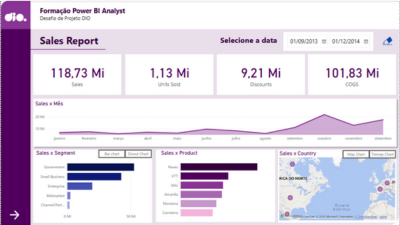

What the dashboard file says about the page in this screenshot:
{"tool":"powerbi","page":{"name":"Sales","canvas":[1280,720],"ordinal":0},"visuals":[{"type":"shape","box":[0,0,1280,720],"z":0},{"type":"image","title":"Clean","box":[1215.6,108.8,53.3,40],"z":0,"group":"g1"},{"type":"card","fields":{"Values":["Sum(financials. Sales)"]},"box":[104.3,171,282.6,130.4],"z":0,"group":"g4"},{"type":"donutChart","title":"Sales x Segment ","fields":{"Y":["Sum(financials. Sales)"],"Category":["financials.Segment"]},"box":[109.3,476.8,376.7,230.2],"z":0,"group":"g3"},{"type":"map","title":"Sales x Country","fields":{"Category":["financials.Country"],"Size":["Sum(financials. Sales)"]},"box":[889.6,477.6,380.6,231.3],"z":0,"group":"g2"},{"type":"shape","box":[0,0,96,720],"z":1000},{"type":"textbox","box":[700.1,104.4,207.7,49.2],"z":1000,"group":"g1"},{"type":"card","fields":{"Values":["Sum(financials.Units Sold)"]},"box":[400,171,282.6,130.4],"z":1000,"group":"g4"},{"type":"treemap","title":"Sales x Country ","fields":{"Group":["financials.Country"],"Values":["Sum(financials. Sales)"]},"box":[890.7,476.7,379.1,230.2],"z":1000,"group":"g2"},{"type":"shape","box":[0,0,95.7,91.3],"z":2000},{"type":"actionButton","box":[1216.3,109.3,62.8,39.5],"z":2000,"group":"g1"},{"type":"card","fields":{"Values":["Sum(financials.Discounts)"]},"box":[694.2,171,282.6,130.4],"z":2000,"group":"g4"},{"type":"actionButton","title":"Donut Chart","box":[398.3,476.7,86.7,26.7],"z":2000,"group":"g3"},{"type":"actionButton","title":"Maps","box":[1096.7,478.3,86.7,26.7],"z":2000,"group":"g2"},{"type":"image","box":[8,12,80,80],"z":3000},{"type":"card","fields":{"Values":["Sum(financials.COGS)"]},"box":[986.9,171,282.6,130.4],"z":3000,"group":"g4"},{"type":"actionButton","title":"Bar Chart","box":[313.3,476.7,86.7,26.7],"z":3000,"group":"g3"},{"type":"actionButton","title":"Tremap","box":[1181.7,478.3,86.7,26.7],"z":3000,"group":"g2"},{"type":"shape","box":[95.7,0,1184.1,91.3],"z":4000},{"type":"textbox","box":[120,11.7,341,65.9],"z":5000},{"type":"shape","box":[94.4,138.9,240.7,33.3],"z":6000,"group":"g5"},{"type":"shape","box":[95.8,304.2,1184.7,172.2],"z":6000},{"type":"textbox","box":[119.4,100,280.6,55.6],"z":7000,"group":"g5"},{"type":"shape","box":[104.1,477.6,381.6,234.7],"z":7000},{"type":"shape","box":[498,477.6,381.6,232.7],"z":8000},{"type":"shape","box":[889.4,476.6,380.9,234],"z":9000},{"type":"areaChart","title":"Sales x Mês","fields":{"Category":["financials.Date.Variation.Hierarquia de datas.Mês"],"Y":["Sum(financials. Sales)"]},"box":[104.7,318.6,1165.1,139.5],"z":10000},{"type":"clusteredBarChart","title":"Sales x Product","fields":{"Y":["Sum(financials. Sales)"],"Category":["financials.Product"]},"box":[509,477.6,371.6,231.3],"z":11000},{"type":"slicer","fields":{"Values":["financials.Date"]},"box":[907.4,100,289.3,61.5],"z":12000},{"type":"group","id":"g1","title":"Filtro por Data","box":[700.1,104.4,579,49.2],"z":13000},{"type":"group","id":"g2","title":"Sales x Country","box":[889.6,476.7,380.6,232.2],"z":14000},{"type":"group","id":"g3","title":"Sales x Segment","box":[108.8,476.7,377.2,232.2],"z":15000},{"type":"actionButton","box":[23.5,666.7,64.7,39.2],"z":16000},{"type":"group","id":"g4","title":"Cartões","box":[104.3,171,1165.2,130.4],"z":17000},{"type":"group","id":"g5","title":"Grupo 1","box":[94.4,100,305.6,72.2],"z":18000}]}

Visuals, with their boxes on the page's 1280x720 design canvas (x1, y1, x2, y2). These are canvas units, not pixel positions in the 400x225 screenshot, which may show the page scaled, cropped or inside an application window:
shape: box=[0, 0, 1280, 720]
"Clean" image: box=[1216, 109, 1269, 149]
card - Sum(financials. Sales): box=[104, 171, 387, 301]
"Sales x Segment " donutChart: box=[109, 477, 486, 707]
"Sales x Country" map: box=[890, 478, 1270, 709]
shape: box=[0, 0, 96, 720]
textbox: box=[700, 104, 908, 154]
card - Sum(financials.Units Sold): box=[400, 171, 683, 301]
"Sales x Country " treemap: box=[891, 477, 1270, 707]
shape: box=[0, 0, 96, 91]
actionButton: box=[1216, 109, 1279, 149]
card - Sum(financials.Discounts): box=[694, 171, 977, 301]
"Donut Chart" actionButton: box=[398, 477, 485, 503]
"Maps" actionButton: box=[1097, 478, 1183, 505]
image: box=[8, 12, 88, 92]
card - Sum(financials.COGS): box=[987, 171, 1270, 301]
"Bar Chart" actionButton: box=[313, 477, 400, 503]
"Tremap" actionButton: box=[1182, 478, 1268, 505]
shape: box=[96, 0, 1280, 91]
textbox: box=[120, 12, 461, 78]
shape: box=[94, 139, 335, 172]
shape: box=[96, 304, 1280, 476]
textbox: box=[119, 100, 400, 156]
shape: box=[104, 478, 486, 712]
shape: box=[498, 478, 880, 710]
shape: box=[889, 477, 1270, 711]
"Sales x Mês" areaChart: box=[105, 319, 1270, 458]
"Sales x Product" clusteredBarChart: box=[509, 478, 881, 709]
slicer - financials.Date: box=[907, 100, 1197, 162]
"Filtro por Data" group: box=[700, 104, 1279, 154]
"Sales x Country" group: box=[890, 477, 1270, 709]
"Sales x Segment" group: box=[109, 477, 486, 709]
actionButton: box=[24, 667, 88, 706]
"Cartões" group: box=[104, 171, 1270, 301]
"Grupo 1" group: box=[94, 100, 400, 172]
